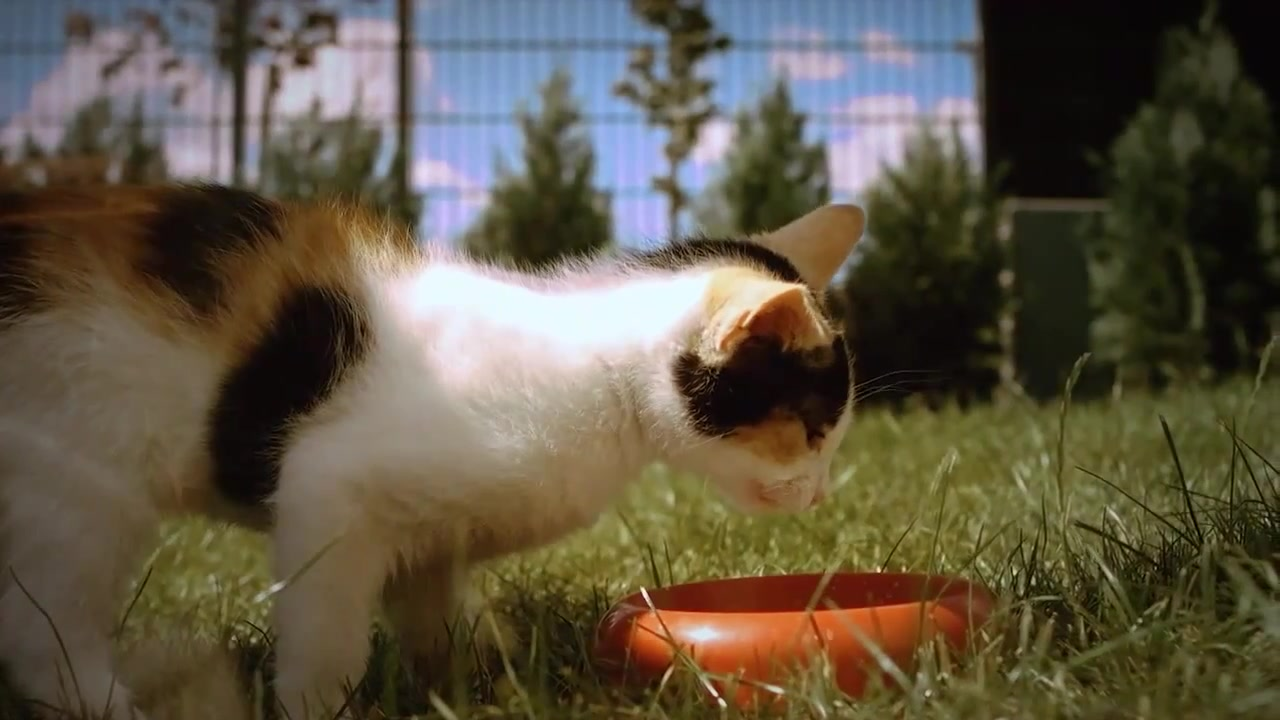cat: (4, 153, 869, 720)
